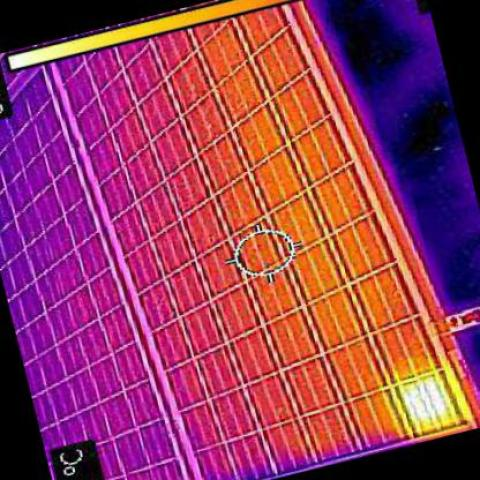fault: (402, 374, 454, 419)
